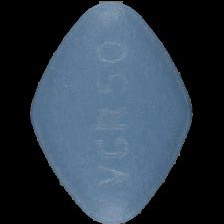63629-2640: (0, 0, 224, 224)
